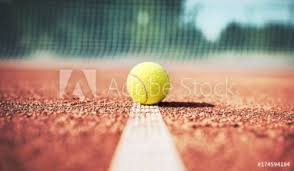tennis_ball: (127, 61, 169, 105)
